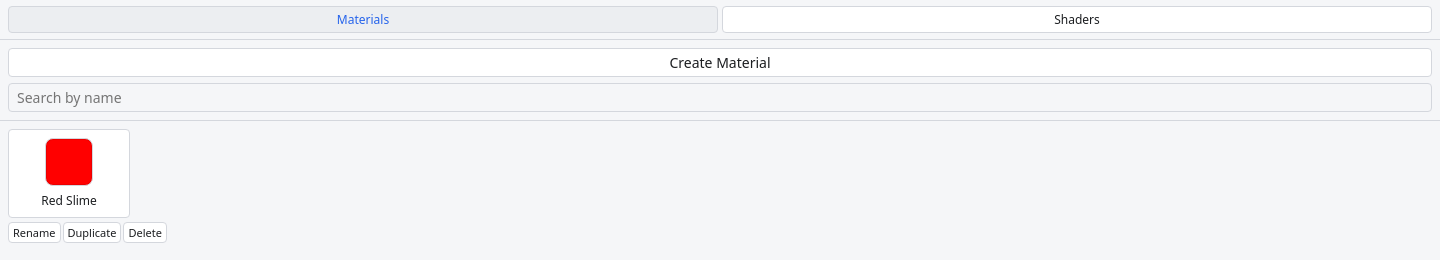
MaterialsPanel › duplicates a material with a suffixed name and shows both in the grid
Expected: the text "Red Slime" is shown, [41,192,97,209]
Click the button with aria-label "Duplicate Red Slime". click: (92, 232)
box: [62,222,121,243]
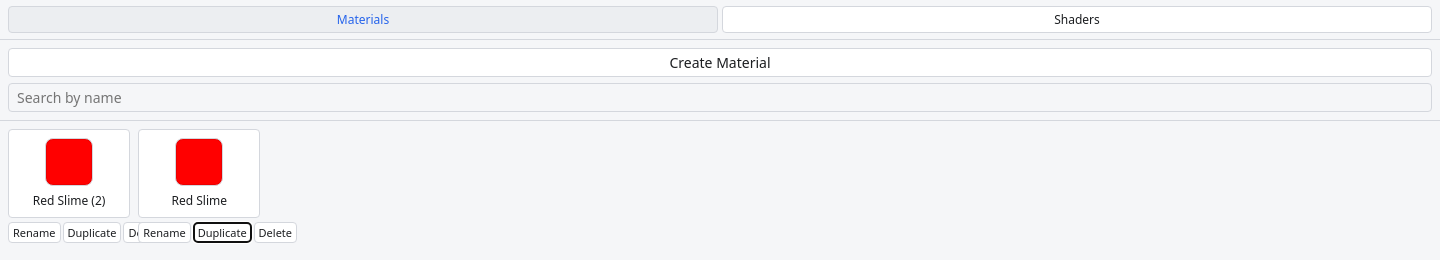
Expected: the text "Red Slime (2)" is shown, [33,192,105,209]
